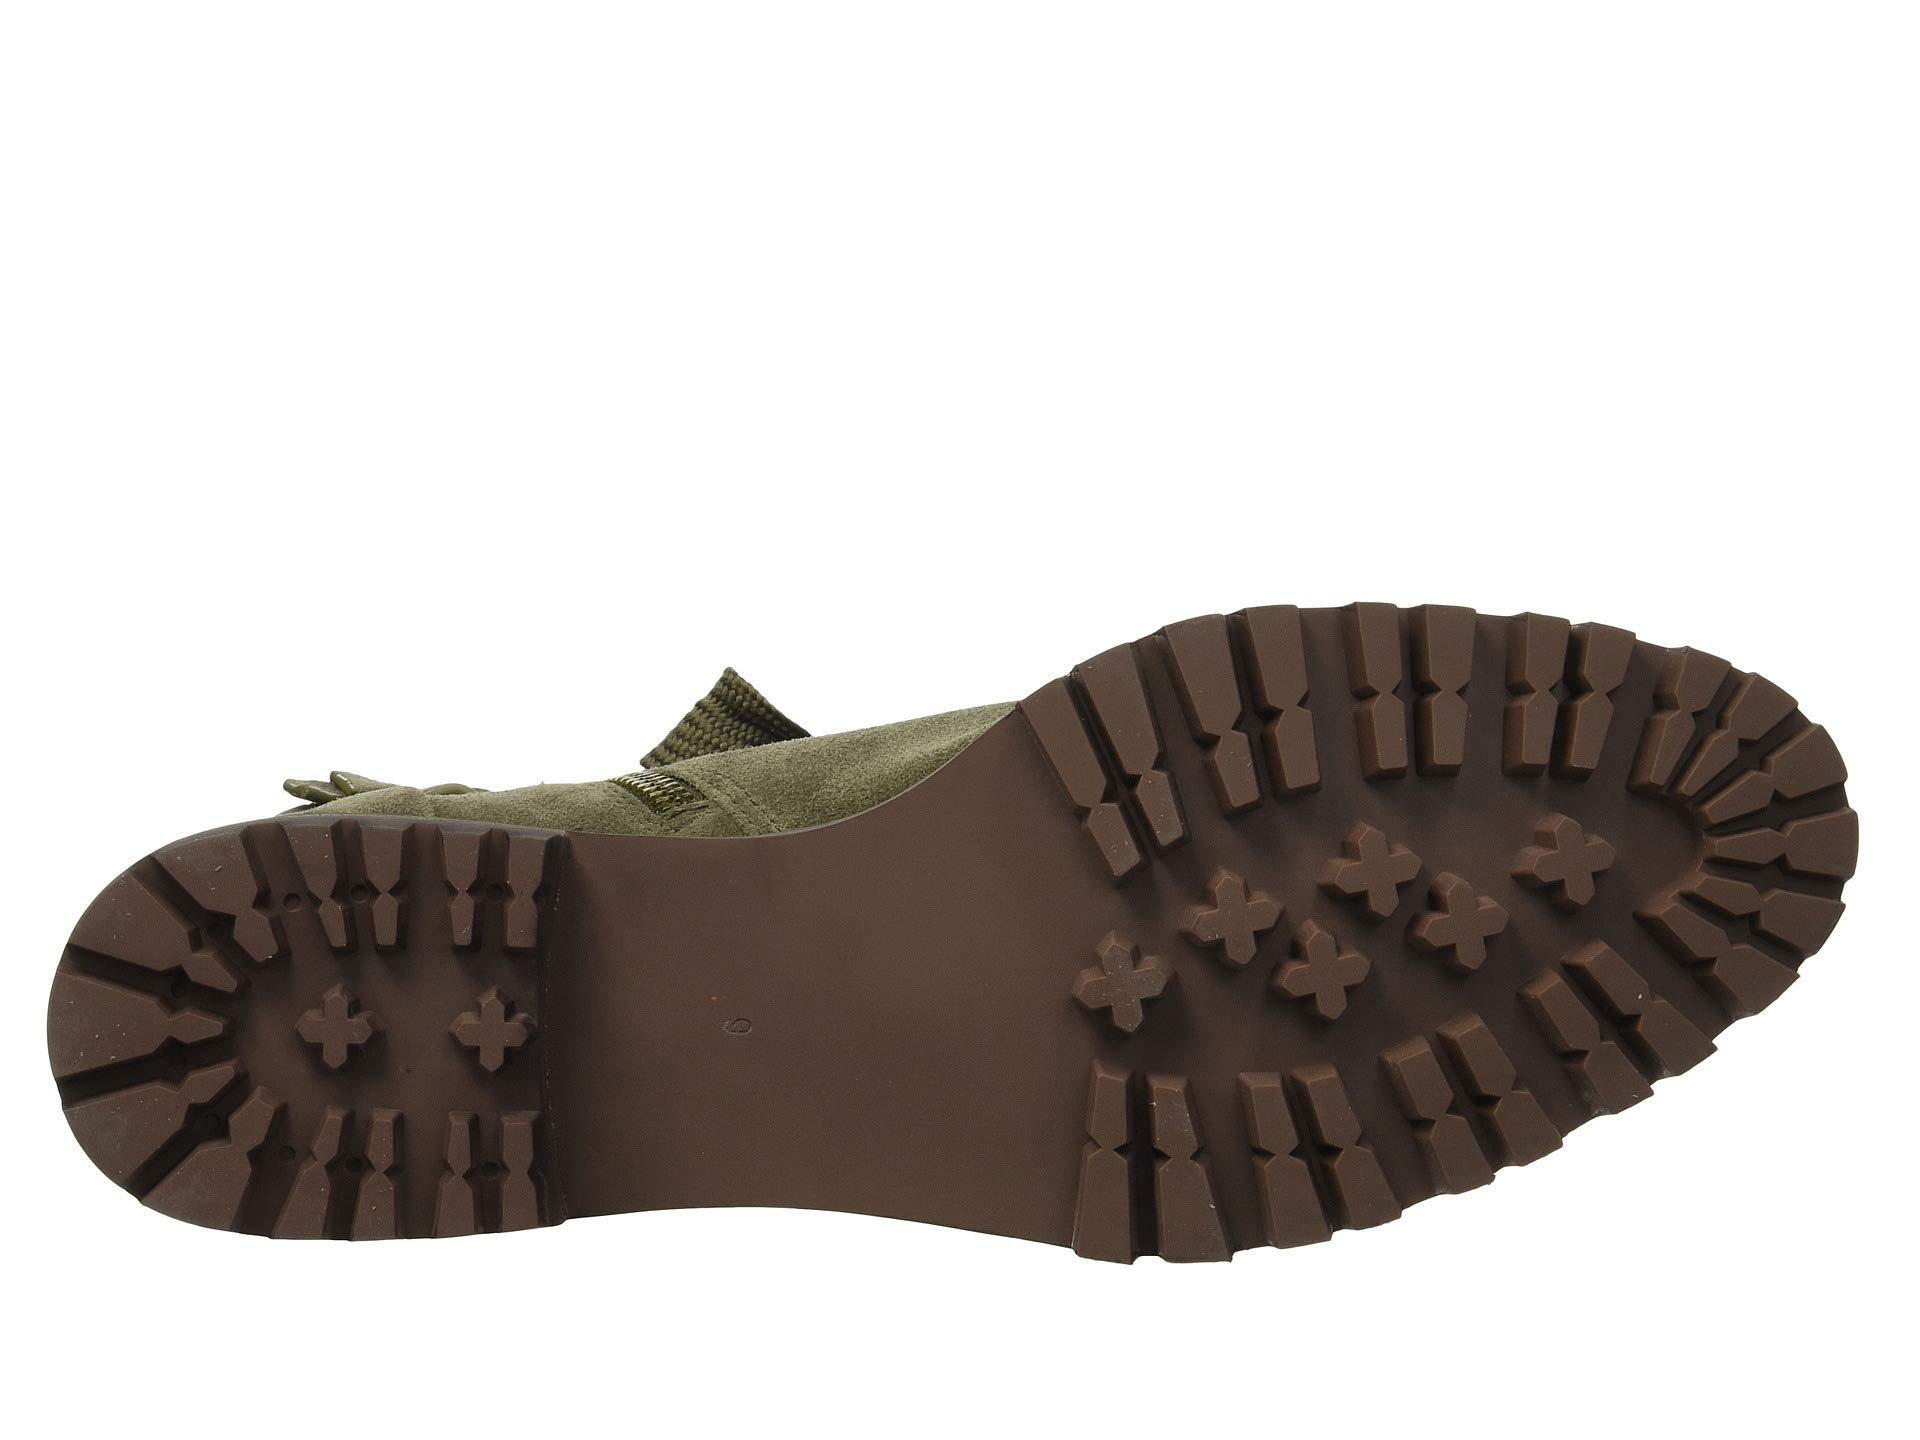bowtie: (1045, 1056, 1264, 1287), (1154, 601, 1330, 805), (1674, 855, 1858, 1038), (1336, 591, 1503, 787), (1658, 643, 1819, 821), (1507, 948, 1675, 1118), (1509, 625, 1648, 797), (431, 1104, 562, 1254)
exclude: (558, 735, 1039, 1240)
star: (260, 967, 543, 1091), (1256, 906, 1395, 1047), (1055, 902, 1181, 1054), (1503, 802, 1640, 935), (271, 967, 398, 1104), (1302, 809, 1429, 930), (438, 962, 549, 1094)
